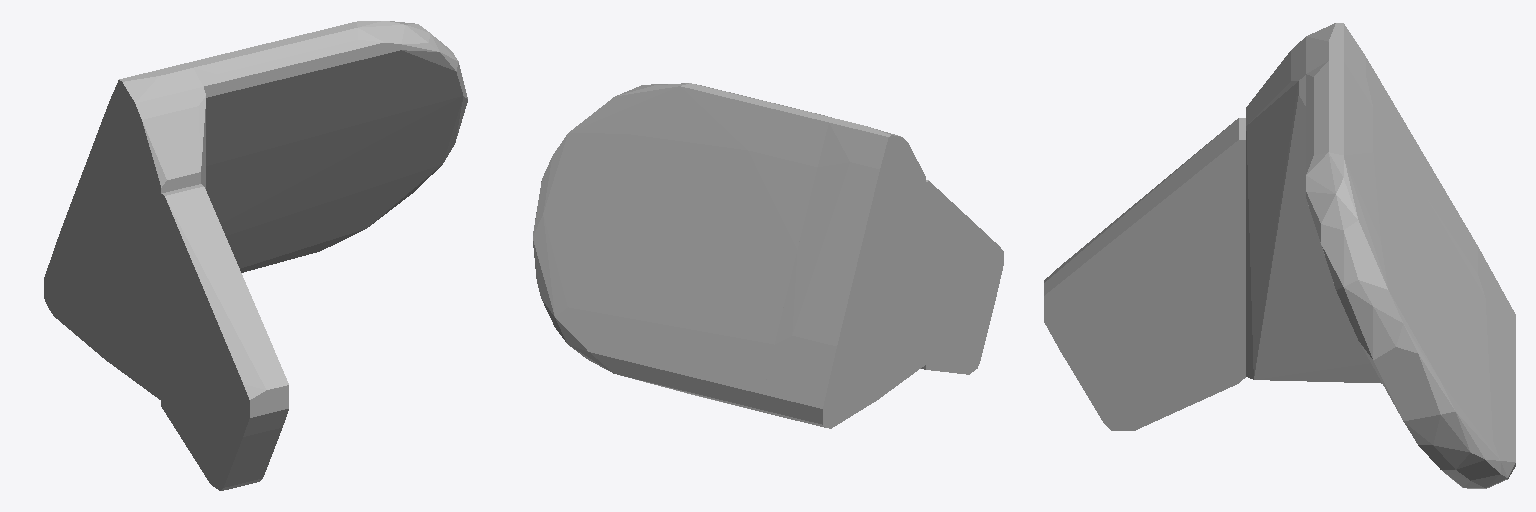
The robot description file, URDF, robot "root":
<robot name="root">
  <link name="link_thingiverse~circle_bracket_1741374_convex_piece_0">
    <inertial>
      <origin rpy="0 0 0" xyz="0 0 0"/>
      <mass value="8.27E-02"/>
      <inertia ixx="3.94E-05" ixy="2.03E-05" ixz="1.09E-05" iyy="9.77E-05" iyz="-6.32E-06" izz="8.91E-05"/>
    </inertial>
    <visual>
      <origin rpy="0 0 0" xyz="0 0 0"/>
      <geometry>
        <mesh filename="thingiverse~circle_bracket_1741374_convex_piece_0.obj" scale="1.0000E+00 1.0000E+00 1.0000E+00"/>
      </geometry>
      <material name="">
        <color rgba="7.50E-01 7.50E-01 7.50E-01 1"/>
      </material>
    </visual>
    <collision>
      <origin rpy="0 0 0" xyz="0 0 0"/>
      <geometry>
        <mesh filename="thingiverse~circle_bracket_1741374_convex_piece_0.obj" scale="1.0000E+00 1.0000E+00 1.0000E+00"/>
      </geometry>
    </collision>
  </link>
  <link name="link_thingiverse~circle_bracket_1741374_convex_piece_1">
    <inertial>
      <origin rpy="0 0 0" xyz="0 0 0"/>
      <mass value="2.57E-02"/>
      <inertia ixx="3.81E-05" ixy="1.54E-05" ixz="6.08E-06" iyy="1.71E-05" iyz="1.19E-05" izz="3.85E-05"/>
    </inertial>
    <visual>
      <origin rpy="0 0 0" xyz="0 0 0"/>
      <geometry>
        <mesh filename="thingiverse~circle_bracket_1741374_convex_piece_1.obj" scale="1.0000E+00 1.0000E+00 1.0000E+00"/>
      </geometry>
      <material name="">
        <color rgba="7.50E-01 7.50E-01 7.50E-01 1"/>
      </material>
    </visual>
    <collision>
      <origin rpy="0 0 0" xyz="0 0 0"/>
      <geometry>
        <mesh filename="thingiverse~circle_bracket_1741374_convex_piece_1.obj" scale="1.0000E+00 1.0000E+00 1.0000E+00"/>
      </geometry>
    </collision>
  </link>
  <joint name="link_thingiverse~circle_bracket_1741374_convex_piece_1_joint" type="fixed">
    <origin rpy="0 0 0" xyz="0 0 0"/>
    <parent link="link_thingiverse~circle_bracket_1741374_convex_piece_0"/>
    <child link="link_thingiverse~circle_bracket_1741374_convex_piece_1"/>
  </joint>
  <link name="link_thingiverse~circle_bracket_1741374_convex_piece_2">
    <inertial>
      <origin rpy="0 0 0" xyz="0 0 0"/>
      <mass value="6.53E-02"/>
      <inertia ixx="2.60E-05" ixy="-1.00E-06" ixz="1.10E-06" iyy="3.48E-05" iyz="-4.06E-06" izz="2.56E-05"/>
    </inertial>
    <visual>
      <origin rpy="0 0 0" xyz="0 0 0"/>
      <geometry>
        <mesh filename="thingiverse~circle_bracket_1741374_convex_piece_2.obj" scale="1.0000E+00 1.0000E+00 1.0000E+00"/>
      </geometry>
      <material name="">
        <color rgba="7.50E-01 7.50E-01 7.50E-01 1"/>
      </material>
    </visual>
    <collision>
      <origin rpy="0 0 0" xyz="0 0 0"/>
      <geometry>
        <mesh filename="thingiverse~circle_bracket_1741374_convex_piece_2.obj" scale="1.0000E+00 1.0000E+00 1.0000E+00"/>
      </geometry>
    </collision>
  </link>
  <joint name="link_thingiverse~circle_bracket_1741374_convex_piece_2_joint" type="fixed">
    <origin rpy="0 0 0" xyz="0 0 0"/>
    <parent link="link_thingiverse~circle_bracket_1741374_convex_piece_1"/>
    <child link="link_thingiverse~circle_bracket_1741374_convex_piece_2"/>
  </joint>
</robot>

--- Render facts (derived) ---
The picture shows the robot from 3 angles, left to right: view 1: azimuth 30°, elevation 25°; view 2: azimuth 150°, elevation 25°; view 3: azimuth 270°, elevation 25°; orthographic projection.
Model root with 3 links and 2 joints (2 fixed), rooted at link_thingiverse~circle_bracket_1741374_convex_piece_0, posed every joint at zero.
Visible links, largest first — view 1: link_thingiverse~circle_bracket_1741374_convex_piece_0, link_thingiverse~circle_bracket_1741374_convex_piece_2, link_thingiverse~circle_bracket_1741374_convex_piece_1; view 2: link_thingiverse~circle_bracket_1741374_convex_piece_0, link_thingiverse~circle_bracket_1741374_convex_piece_2, link_thingiverse~circle_bracket_1741374_convex_piece_1; view 3: link_thingiverse~circle_bracket_1741374_convex_piece_0, link_thingiverse~circle_bracket_1741374_convex_piece_1, link_thingiverse~circle_bracket_1741374_convex_piece_2.
Boxes of the visible links, x1,y1,x2,y2 form: link_thingiverse~circle_bracket_1741374_convex_piece_0: (188,21,467,272); link_thingiverse~circle_bracket_1741374_convex_piece_2: (44,63,205,399); link_thingiverse~circle_bracket_1741374_convex_piece_1: (161,184,288,490); link_thingiverse~circle_bracket_1741374_convex_piece_0: (533,83,834,412); link_thingiverse~circle_bracket_1741374_convex_piece_2: (763,119,925,428); link_thingiverse~circle_bracket_1741374_convex_piece_1: (921,180,1003,374); link_thingiverse~circle_bracket_1741374_convex_piece_0: (1306,61,1515,488); link_thingiverse~circle_bracket_1741374_convex_piece_1: (1044,118,1245,430); link_thingiverse~circle_bracket_1741374_convex_piece_2: (1246,23,1515,383).
Size in the robot's own frame: 0.0831 by 0.0818 by 0.074 metres.
3 mesh visuals loaded from 3 distinct referenced files (3 OBJ).
